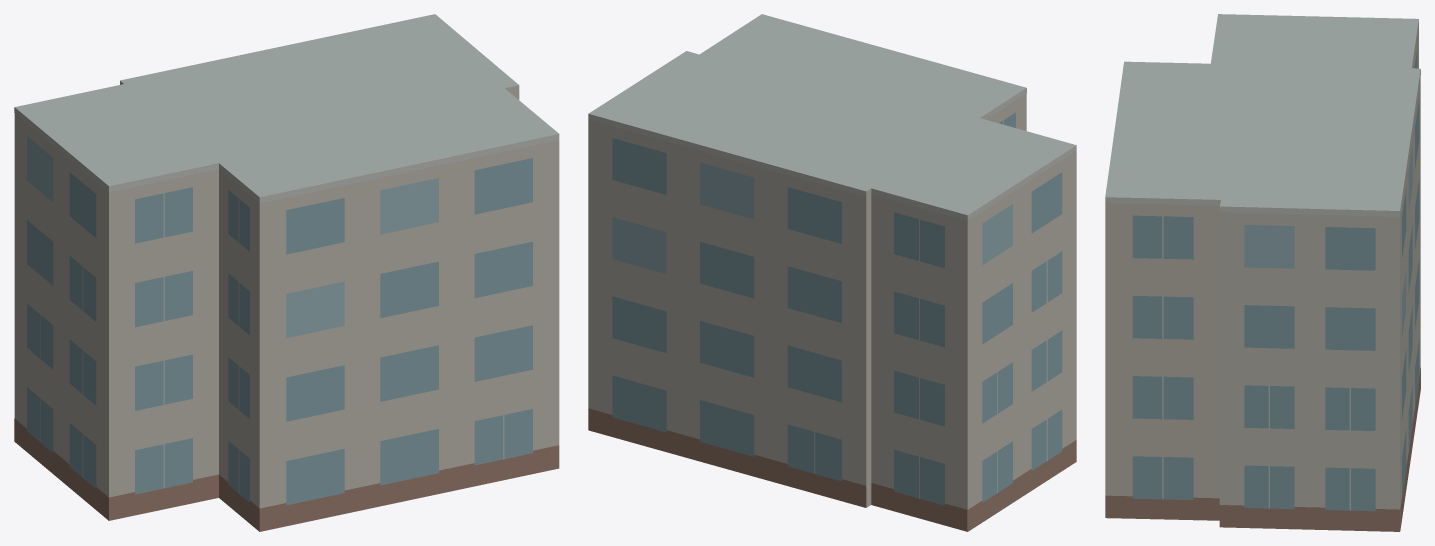
The model's file is survey-upis-32476307.glb.
3 renders of one model, left to right at view 1: azimuth 30°, elevation 25°; view 2: azimuth 150°, elevation 25°; view 3: azimuth 270°, elevation 25°, orthographic. The views are drawn at different scales.
Parts seen in each view (by area): view 1: survey-upis-32476307.tmp; view 2: survey-upis-32476307.tmp; view 3: survey-upis-32476307.tmp.
Part boxes in pixels (x1,y1,x2,y2): survey-upis-32476307.tmp: (14,14,559,531); survey-upis-32476307.tmp: (588,14,1076,531); survey-upis-32476307.tmp: (1105,14,1420,531).
Size of the model in its own units: 17.75 by 13.47 by 12.02.
